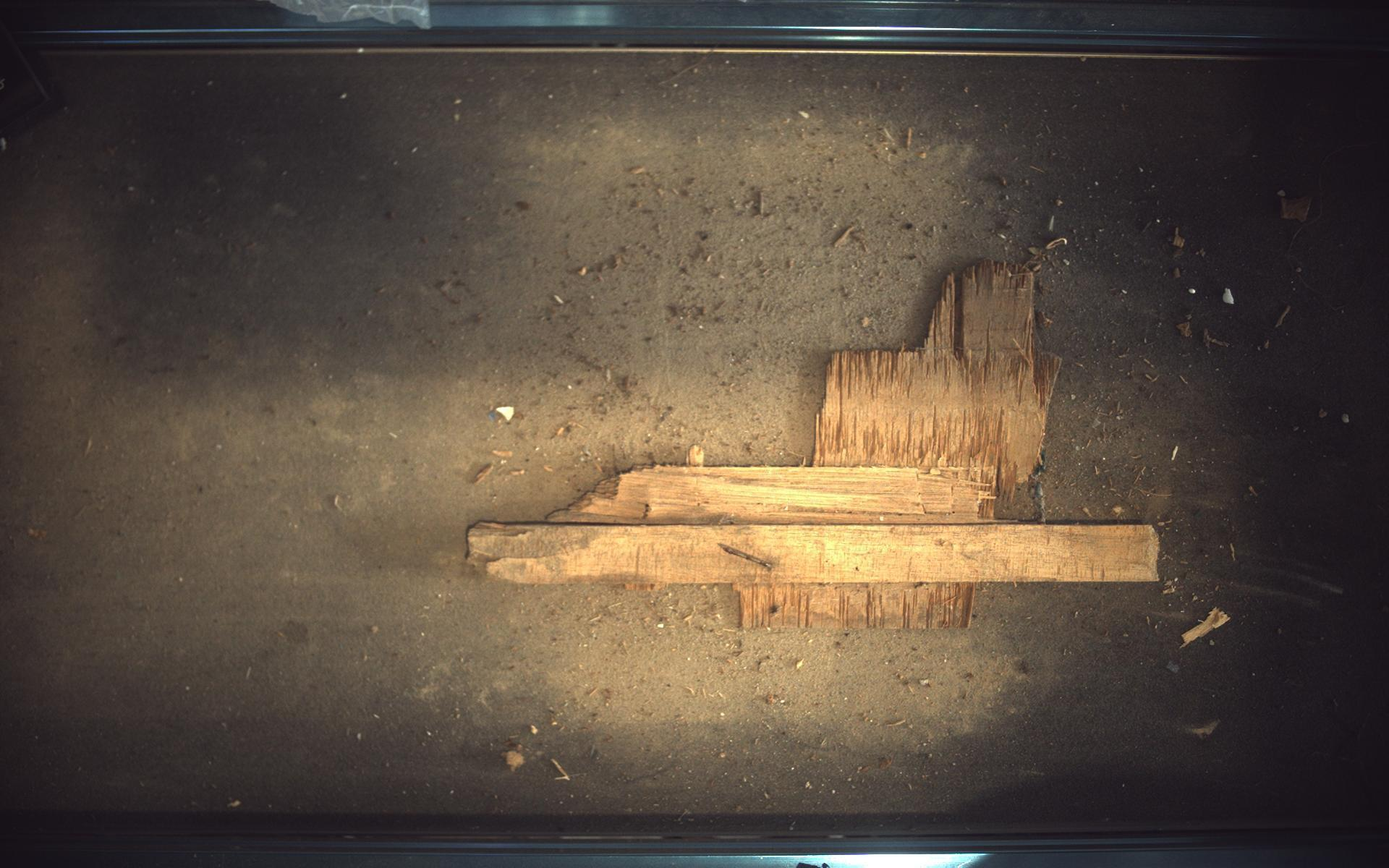wood: (468, 260, 1161, 629)
